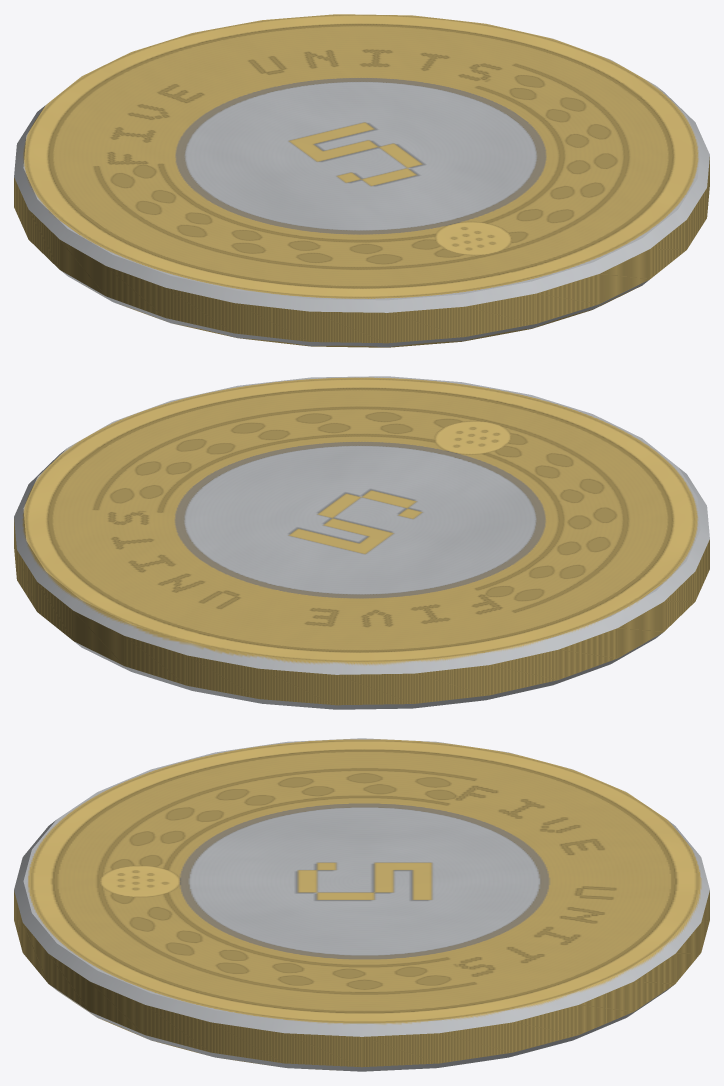
The model's file is cash_coin_05_sheet01.glb.
3 renders of one model, top to bottom at view 1: azimuth 30°, elevation 25°; view 2: azimuth 150°, elevation 25°; view 3: azimuth 270°, elevation 25°, orthographic.
Parts seen in each view (by area): view 1: Coin_Body; view 2: Coin_Body; view 3: Coin_Body.
Part boxes in pixels (bbox=[...]): Coin_Body: bbox=[14, 14, 709, 347]; Coin_Body: bbox=[14, 376, 709, 709]; Coin_Body: bbox=[14, 738, 709, 1071].
Size of the model in its own units: 0.024 by 0.0018 by 0.024.
Materials: 1 (1 with a texture image).
